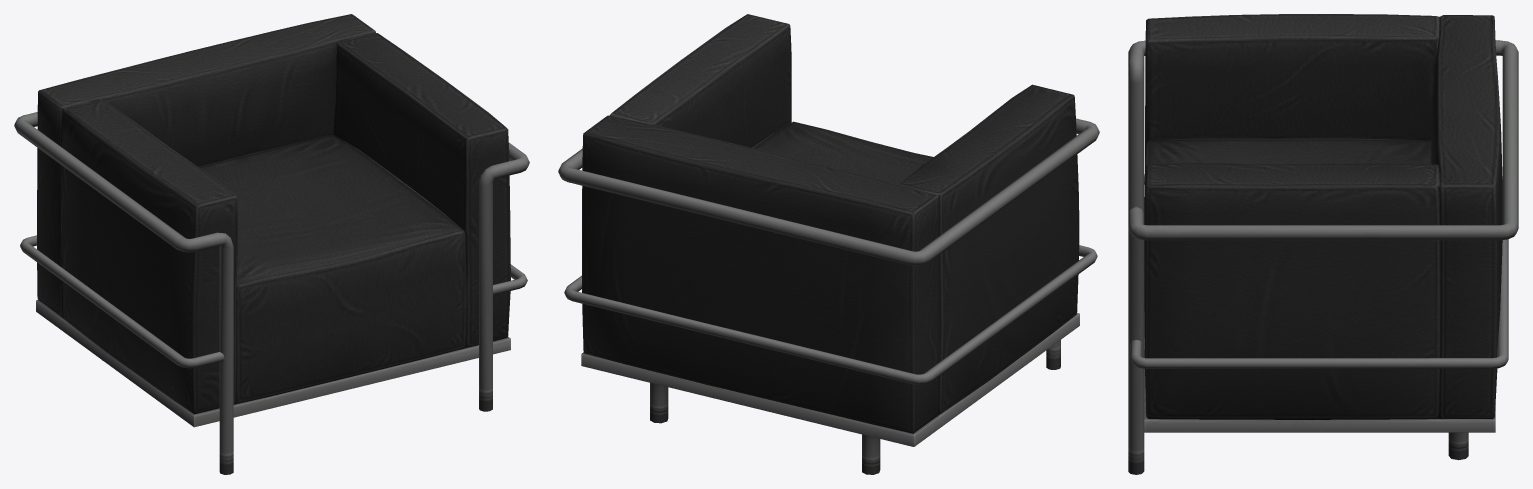
File: armchair_modern.dae
3 views of the same model, side by side, from view 1: azimuth 30°, elevation 25°; view 2: azimuth 150°, elevation 25°; view 3: azimuth 270°, elevation 25° (orthographic). The views are drawn at different scales.
Parts seen in each view (by area): view 1: low; view 2: low; view 3: low.
Part boxes in pixels (bbox=[...]): low: bbox=[14, 14, 529, 474]; low: bbox=[558, 14, 1099, 474]; low: bbox=[1128, 14, 1518, 474].
Size of the model in its own units: 1.29 by 0.9454 by 1.11.
